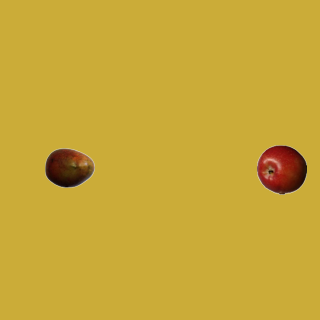Apple Braeburn: (256, 144, 306, 194)
Mango Red: (44, 142, 94, 192)
